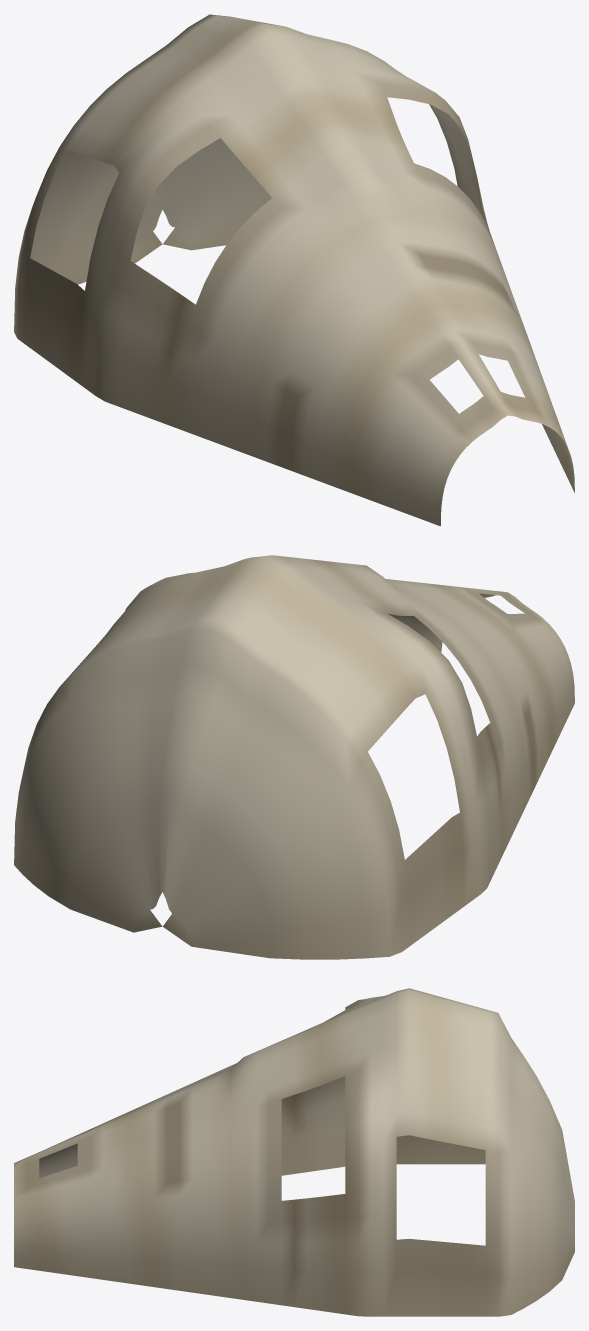
File: bone-skull-a.glb
3 views of the same model, one above another, from view 1: azimuth 30°, elevation 25°; view 2: azimuth 150°, elevation 25°; view 3: azimuth 270°, elevation 25° (orthographic). The views are drawn at different scales.
Parts seen in each view (by area): view 1: bone-skull-a; view 2: bone-skull-a; view 3: bone-skull-a.
Part boxes in pixels (x1=…): bone-skull-a: x1=14, y1=14, x2=574, y2=526; bone-skull-a: x1=14, y1=555, x2=574, y2=959; bone-skull-a: x1=14, y1=988, x2=574, y2=1316.
Size of the model in its own units: 0.643 by 0.492 by 1.
